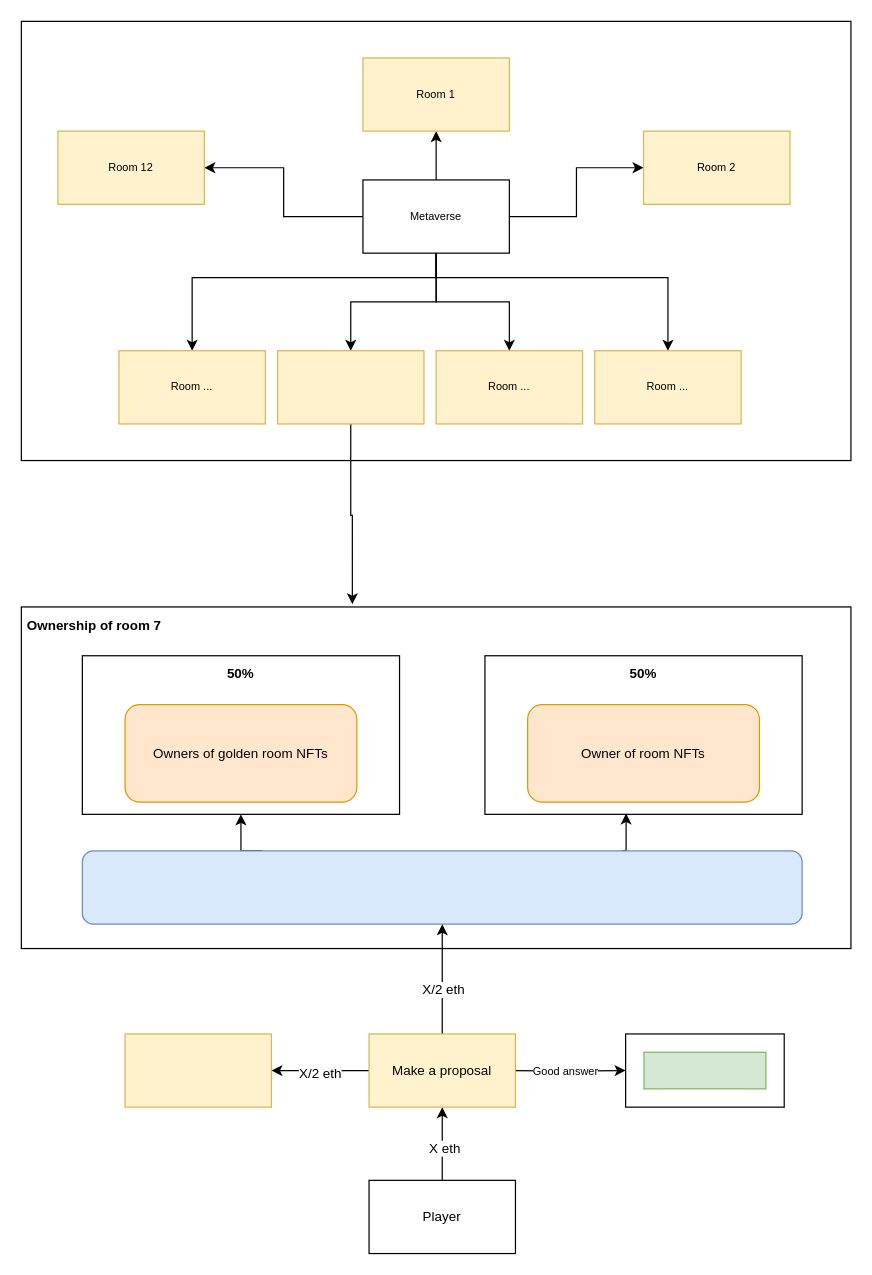
The diagram is 872 pixels wide and 1275 high, and some of its shapes have lost their labels. Each missing label, with the centre of its shape:
"Fees generated by the room" belongs at pixel 441 887.
"Guild and user have one key !" belongs at pixel 704 1070.
"Protocol treasury (5%) Prize treasury (45%)" belongs at pixel 197 1070.
"Room 7" belongs at pixel 350 387.
